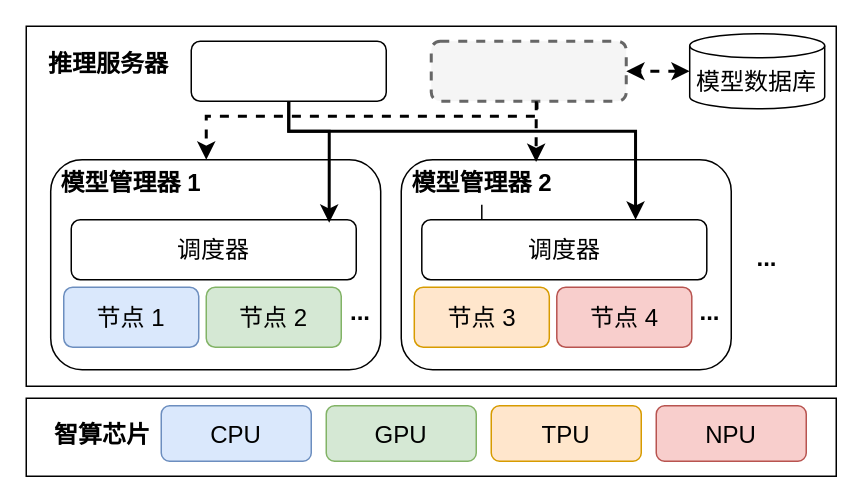
Image size: 863x503. Some labels were removed from this diagram. Here are the shapes that lost their labels. From the top down, the box of each, then its label:
(190, 40, 386, 101): 推理前端
(429, 39, 627, 102): 管理前端
